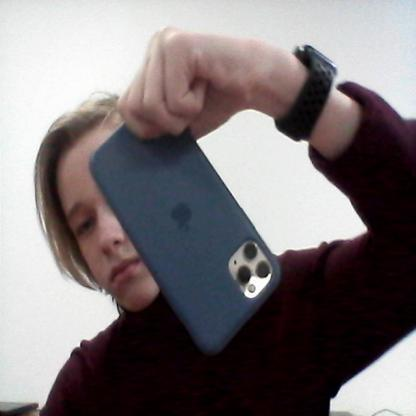phone: (86, 97, 282, 359)
